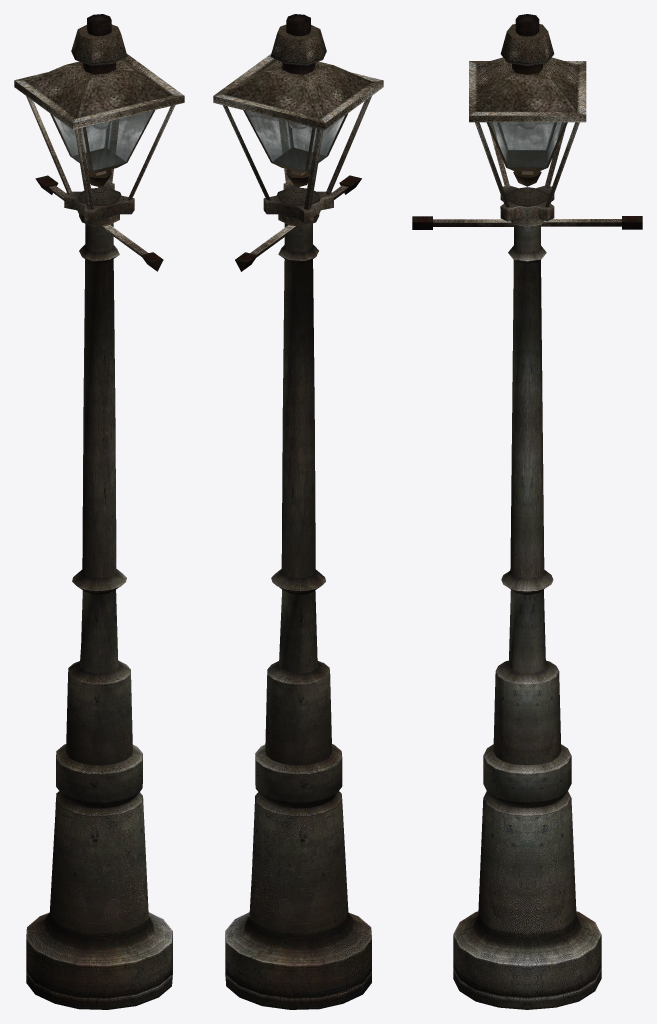
File: light_streetlight.glb
3 renders of one model, left to right at view 1: azimuth 30°, elevation 25°; view 2: azimuth 150°, elevation 25°; view 3: azimuth 270°, elevation 25°, orthographic.
Visible parts, largest first — view 1: 2_light_streetlight, 3_wall_lamp_glass, 1_wall_lamp; view 2: 2_light_streetlight, 3_wall_lamp_glass, 1_wall_lamp; view 3: 2_light_streetlight, 3_wall_lamp_glass, 1_wall_lamp.
Boxes of the visible parts, <box> form: 2_light_streetlight: <box>14,14,184,1009</box>; 3_wall_lamp_glass: <box>52,110,153,170</box>; 1_wall_lamp: <box>50,110,155,173</box>; 2_light_streetlight: <box>213,14,383,1009</box>; 3_wall_lamp_glass: <box>245,110,345,170</box>; 1_wall_lamp: <box>243,110,347,173</box>; 2_light_streetlight: <box>412,14,642,1009</box>; 3_wall_lamp_glass: <box>489,122,564,167</box>; 1_wall_lamp: <box>486,122,567,170</box>.
Bounding box in the file's own units: 0.6004 × 4.3 × 0.9358.
Materials: 5 (5 with a texture image).
